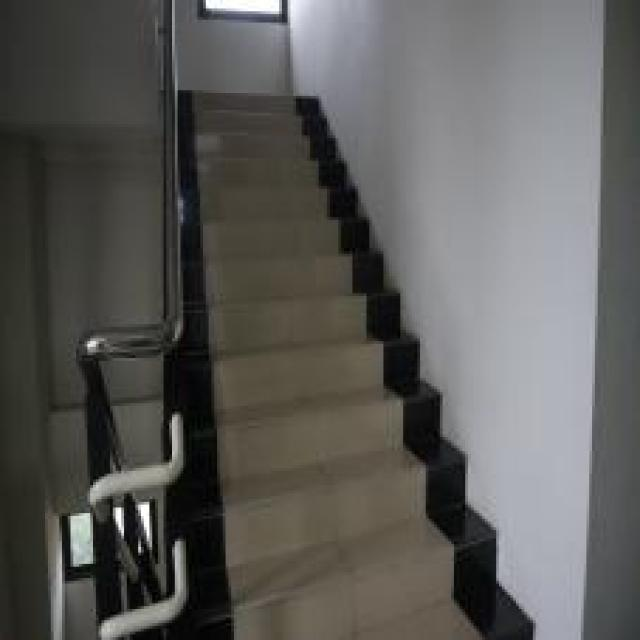upstair: (180, 127, 432, 637)
